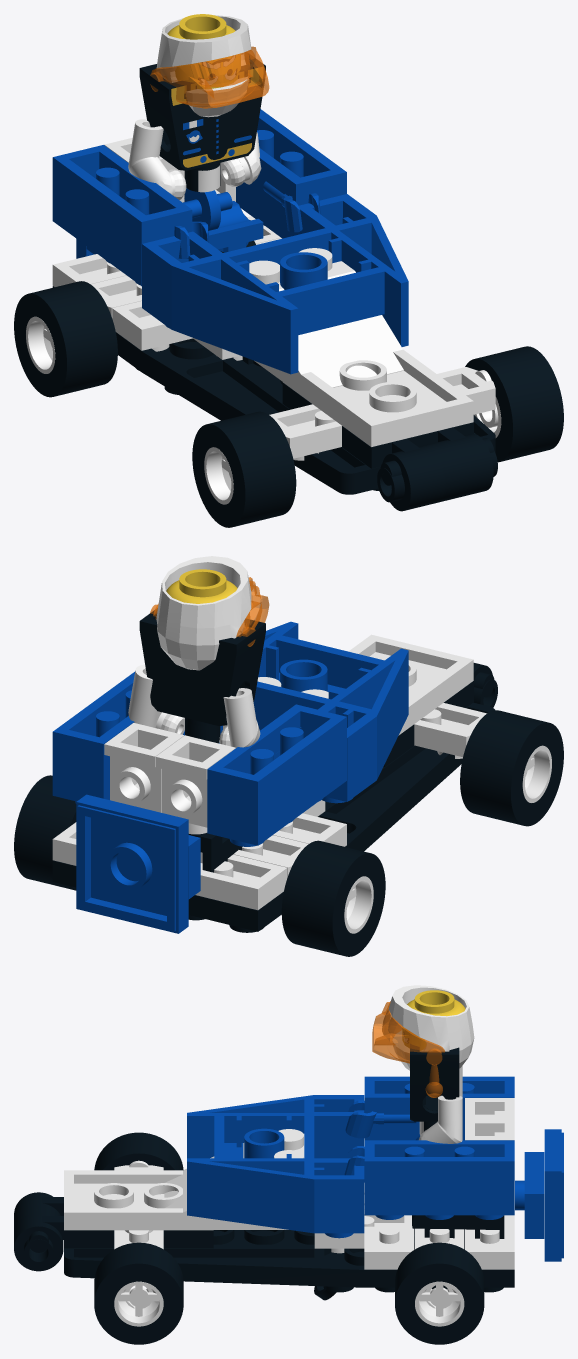
File: Commander Cold.dae
The picture shows the model from 3 angles, top to bottom: view 1: azimuth 30°, elevation 25°; view 2: azimuth 150°, elevation 25°; view 3: azimuth 270°, elevation 25°; orthographic projection. The views are drawn at different scales.
Visible parts, largest first — view 1: 2399_dot_dat, 30028_dot_dat (×3), 3622_dot_dat (×2), 2413_dot_dat, 3021_dot_dat, 973p61_dot_dat, 3062b_dot_dat (×2), 3298_dot_dat, 2926_dot_dat (×2), 6119_dot_dat, 2446_dot_dat, 3815_dot_dat (+8 smaller); view 2: 30028_dot_dat (×3), 3622_dot_dat (×2), 2399_dot_dat, 3068bp61_dot_dat, 2413_dot_dat, 4070_dot_dat (×2), 973p61_dot_dat, 2446_dot_dat, 3021_dot_dat, 3710_dot_dat, 2926_dot_dat (×2), 30027a_dot_dat (×2) (+10 smaller); view 3: 2399_dot_dat, 3622_dot_dat (×2), 30028_dot_dat (×3), 2413_dot_dat, 3021_dot_dat, 2446_dot_dat, 30027a_dot_dat (×2), 973p61_dot_dat, 2420_dot_dat, 3062b_dot_dat (×2), 3068bp61_dot_dat, 6119_dot_dat (+11 smaller).
Part boxes in pixels (box(x1,y1,x2,y2)): 2399_dot_dat: box(142, 194, 408, 374); 30028_dot_dat (×3): box(14, 281, 563, 527); 3622_dot_dat (×2): box(52, 109, 346, 286); 2413_dot_dat: box(52, 286, 495, 494); 3021_dot_dat: box(282, 349, 473, 446); 973p61_dot_dat: box(139, 55, 265, 192); 3062b_dot_dat (×2): box(377, 433, 497, 511); 3298_dot_dat: box(249, 248, 403, 387); 2926_dot_dat (×2): box(91, 238, 495, 460); 6119_dot_dat: box(150, 46, 269, 108); 2446_dot_dat: box(156, 15, 251, 117); 3815_dot_dat: box(183, 188, 263, 252); 30028_dot_dat (×3): box(14, 710, 563, 956); 3622_dot_dat (×2): box(52, 671, 346, 846); 2399_dot_dat: box(220, 621, 408, 803); 3068bp61_dot_dat: box(76, 794, 188, 933); 2413_dot_dat: box(52, 702, 494, 932); 4070_dot_dat (×2): box(104, 723, 235, 834); 973p61_dot_dat: box(139, 608, 265, 743); 2446_dot_dat: box(156, 556, 251, 670); 3021_dot_dat: box(348, 634, 473, 735); 3710_dot_dat: box(52, 822, 287, 910); 2926_dot_dat (×2): box(233, 703, 486, 877); 30027a_dot_dat (×2): box(344, 745, 551, 933); 2399_dot_dat: box(187, 1095, 364, 1238); 3622_dot_dat (×2): box(364, 1076, 514, 1219); 30028_dot_dat (×3): box(94, 1132, 484, 1344); 2413_dot_dat: box(64, 1230, 514, 1292); 3021_dot_dat: box(64, 1170, 213, 1233); 2446_dot_dat: box(388, 985, 474, 1070); 30027a_dot_dat (×2): box(114, 1281, 464, 1326); 973p61_dot_dat: box(410, 1044, 459, 1135); 2420_dot_dat: box(314, 1210, 414, 1269); 3062b_dot_dat (×2): box(14, 1192, 63, 1271); 3068bp61_dot_dat: box(544, 1129, 563, 1261); 6119_dot_dat: box(372, 1001, 444, 1097).
Size of the model in its own units: 124 by 132 by 219.
